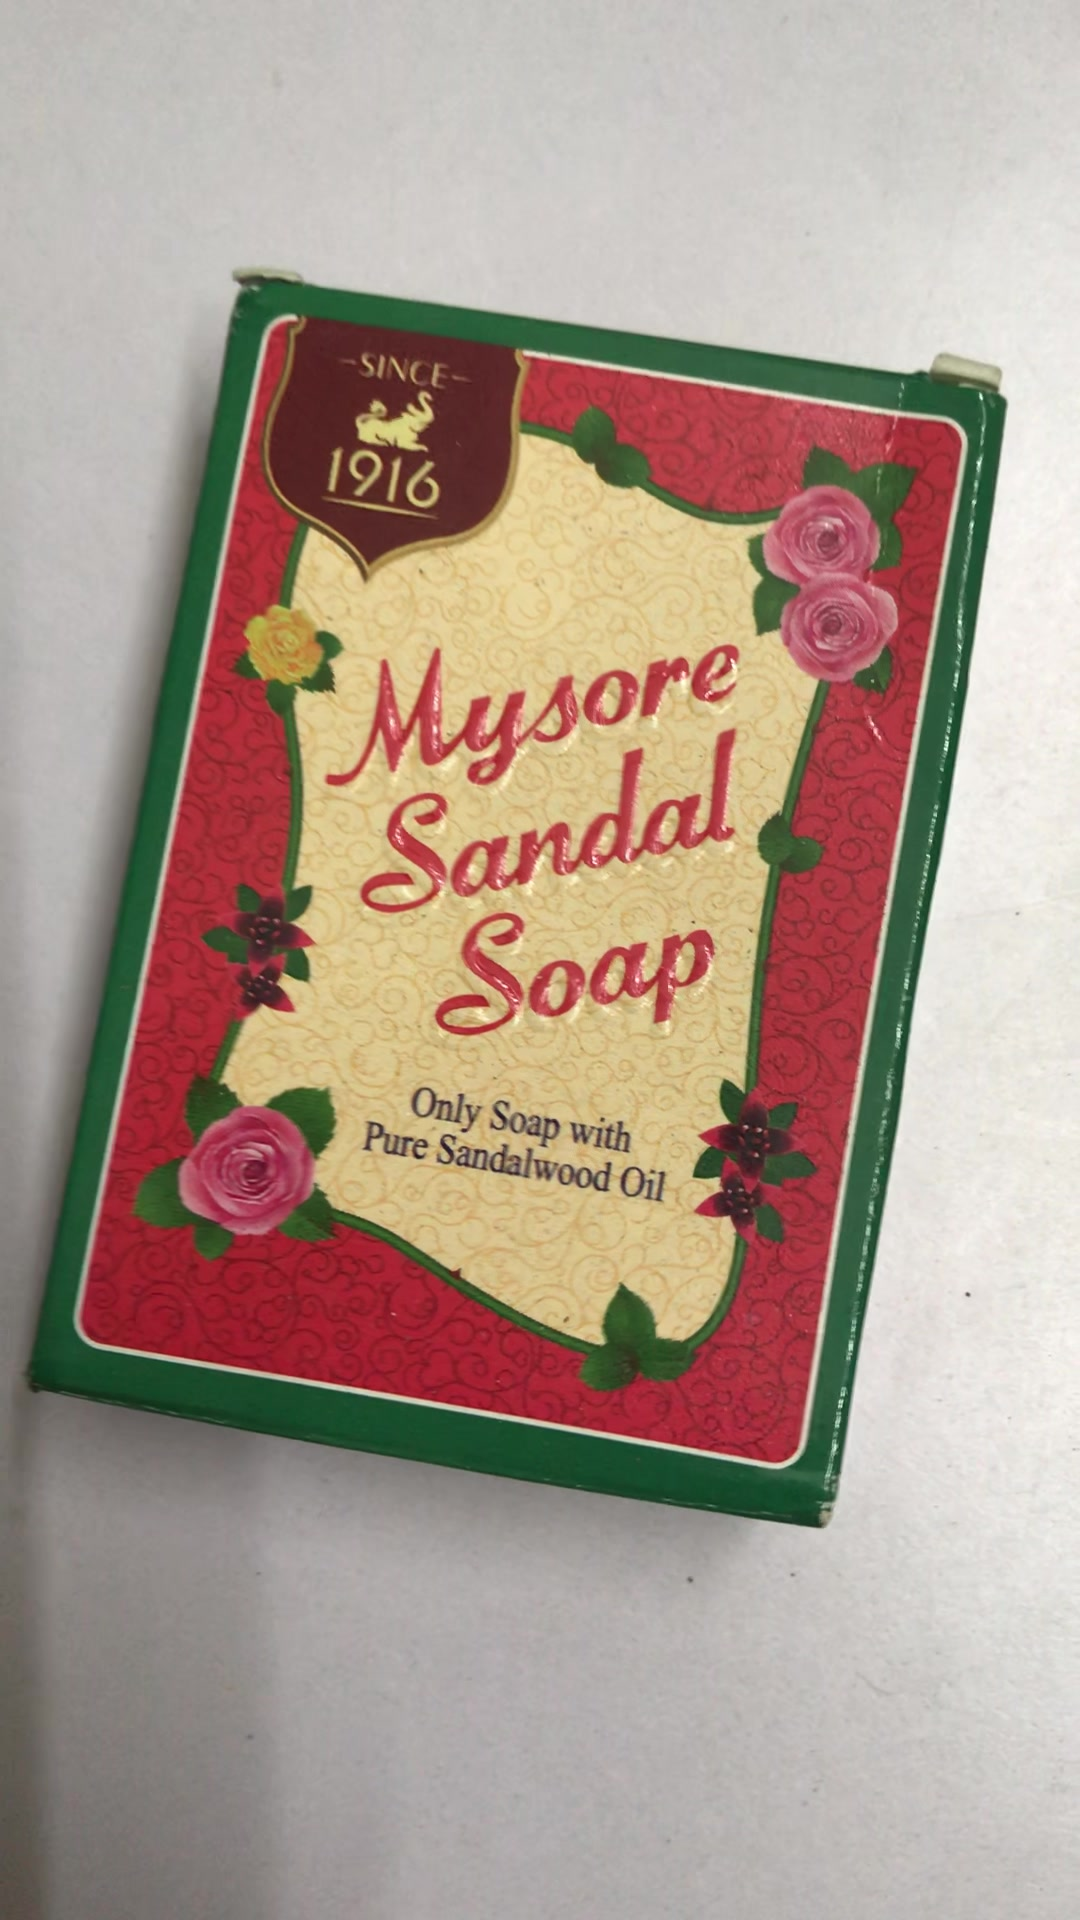mysore sandal soap: (30, 287, 1005, 1527)
